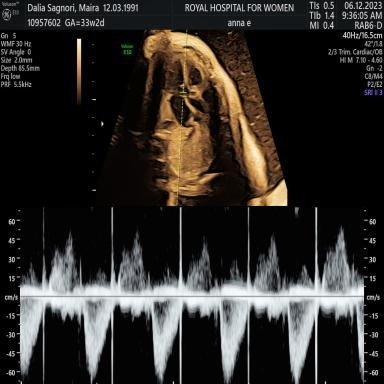Ultrasound-Waves: (28, 209, 364, 384)
